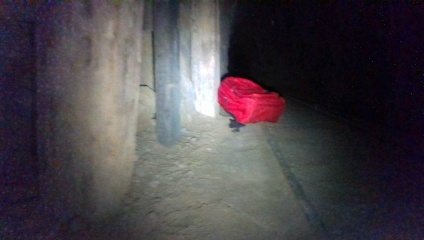backpack: (217, 75, 286, 125)
